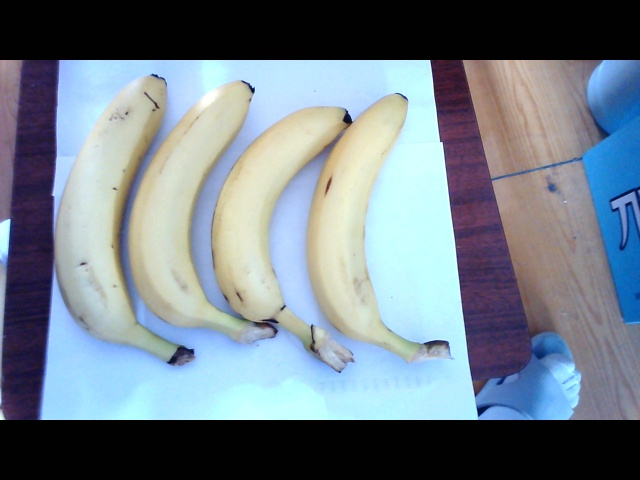banana: (310, 87, 434, 360), (211, 92, 320, 346), (48, 84, 131, 361), (134, 86, 221, 343)
